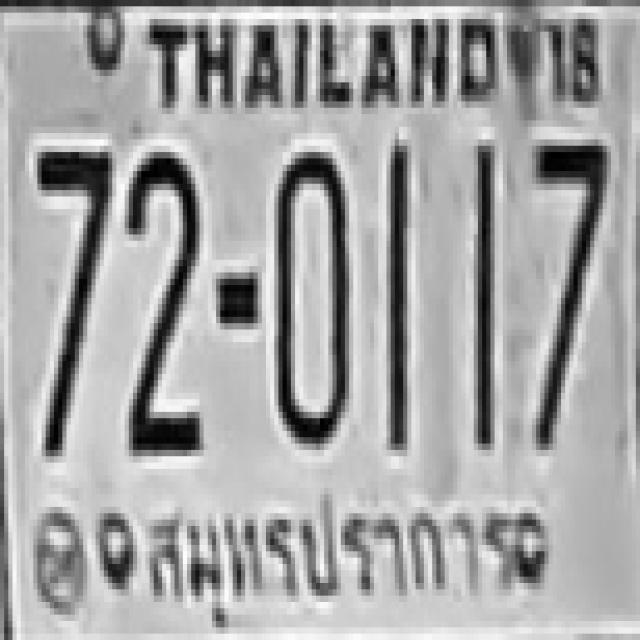0: (272, 149, 347, 440)
1: (382, 140, 408, 443), (470, 140, 494, 443)
2: (124, 146, 200, 444)
7: (33, 146, 108, 450), (530, 140, 605, 443)
SPK: (133, 486, 519, 616)
